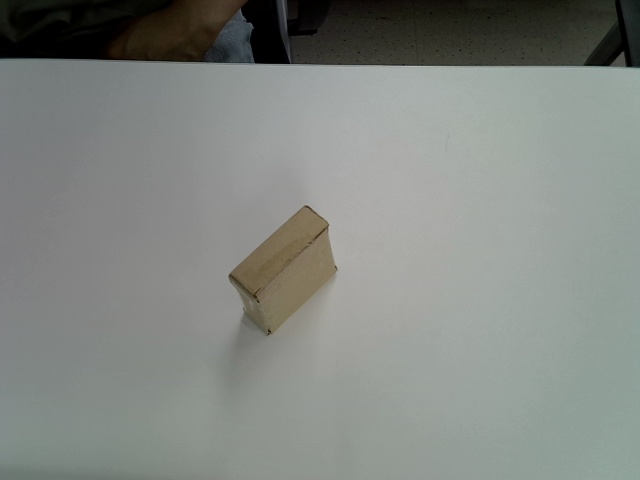normal: (228, 205, 340, 337)
